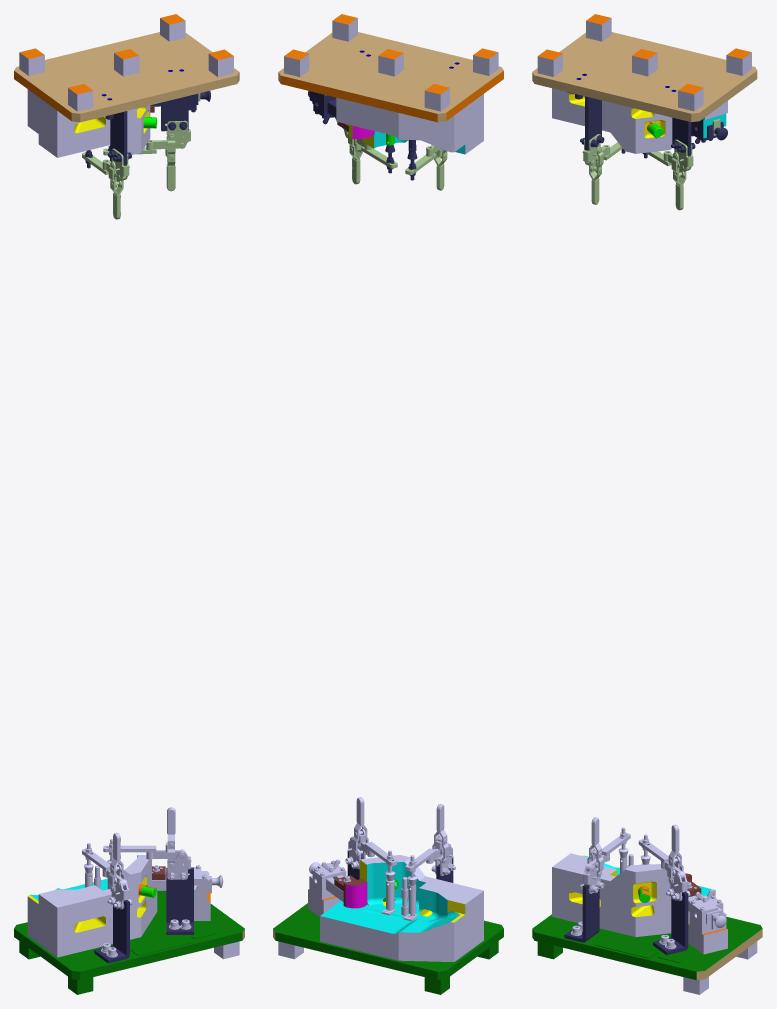
Rendered from FS145952_815D_55371-0E080_K00_260430_KEN.obj.
3 renders of one model, left to right at view 1: azimuth 30°, elevation 25°; view 2: azimuth 150°, elevation 25°; view 3: azimuth 330°, elevation 25°, orthographic.
Visible parts, largest first — view 1: Shell_007, Shell_123, Shell_124, Shell_006, Shell_174, Shell_206, Shell_115, Shell_077, Shell_000, Shell_001, Shell_004, Shell_003 (+2 smaller); view 2: Shell_123, Shell_007, Shell_006, Shell_124, Shell_213, Shell_000, Shell_003, Shell_002, Shell_001, Shell_004; view 3: Shell_007, Shell_123, Shell_124, Shell_006, Shell_174, Shell_206, Shell_122, Shell_115, Shell_000, Shell_001, Shell_003, Shell_004 (+2 smaller).
Part boxes in pixels (box(x1,y1,x2,y2)): Shell_007: box(14, 32, 239, 122); Shell_123: box(27, 855, 157, 957); Shell_124: box(14, 891, 244, 980); Shell_006: box(27, 89, 150, 157); Shell_174: box(166, 867, 193, 934); Shell_206: box(94, 900, 129, 963); Shell_115: box(105, 111, 127, 165); Shell_077: box(161, 96, 188, 131); Shell_000: box(114, 49, 139, 76); Shell_001: box(19, 48, 44, 75); Shell_004: box(208, 49, 233, 76); Shell_003: box(68, 84, 93, 111); Shell_123: box(320, 855, 483, 961); Shell_007: box(278, 32, 503, 122); Shell_006: box(336, 94, 483, 154); Shell_124: box(273, 897, 503, 980); Shell_213: box(343, 878, 367, 908); Shell_000: box(378, 49, 403, 76); Shell_003: box(473, 48, 498, 75); Shell_002: box(284, 49, 309, 76); Shell_001: box(424, 84, 449, 111); Shell_004: box(332, 14, 357, 41); Shell_007: box(532, 32, 757, 122); Shell_123: box(552, 853, 715, 936); Shell_124: box(532, 914, 762, 980); Shell_006: box(552, 88, 672, 153); Shell_174: box(653, 891, 688, 955); Shell_206: box(564, 884, 599, 942); Shell_122: box(688, 923, 727, 954); Shell_115: box(567, 92, 601, 150); Shell_000: box(632, 49, 657, 76); Shell_001: box(586, 14, 611, 41); Shell_003: box(537, 49, 562, 76); Shell_004: box(678, 83, 703, 111).
Bounding box in the file's own units: 320 × 1590 × 205.
